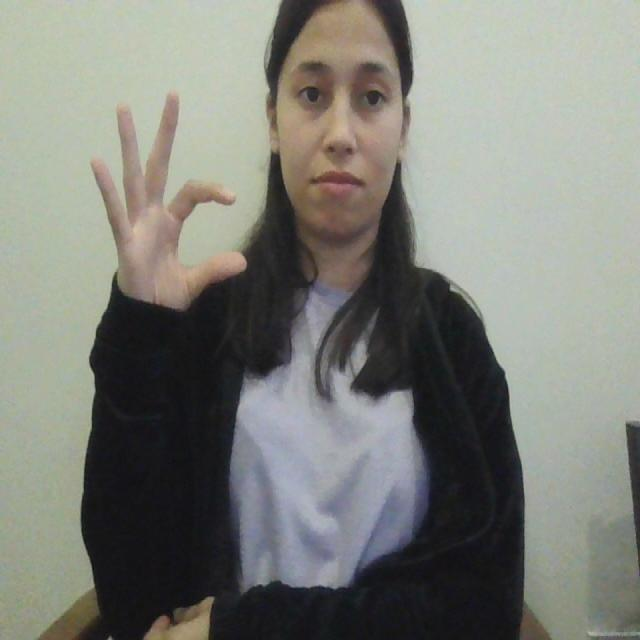Tuvalet: (77, 76, 258, 329)
